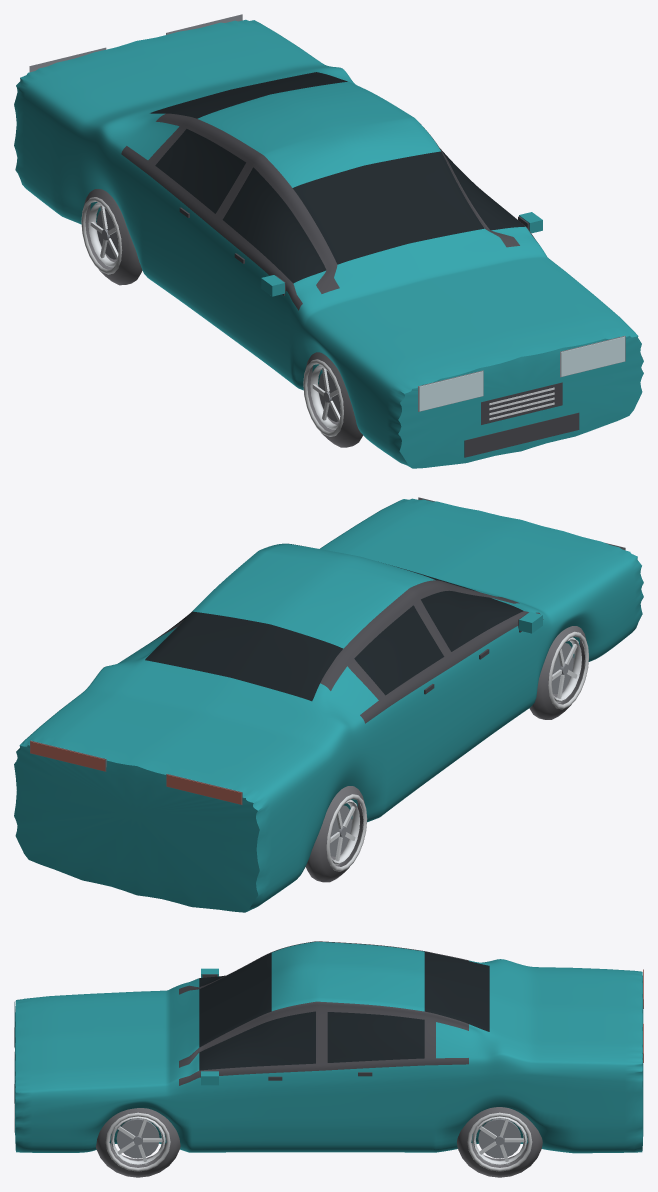
File: Sedan_Mid_A_25_Ocean.fbx
The picture shows the model from 3 angles, top to bottom: view 1: azimuth 30°, elevation 25°; view 2: azimuth 150°, elevation 25°; view 3: azimuth 270°, elevation 25°; orthographic projection. The views are drawn at different scales.
Visible parts, largest first — view 1: LOD0; view 2: LOD0; view 3: LOD0.
Boxes of the visible parts, x1=… form: LOD0: x1=14, y1=14, x2=643, y2=468; LOD0: x1=14, y1=497, x2=643, y2=912; LOD0: x1=14, y1=941, x2=643, y2=1177.
Size of what is drawn, in the model's own units: 199 by 144 by 491.
